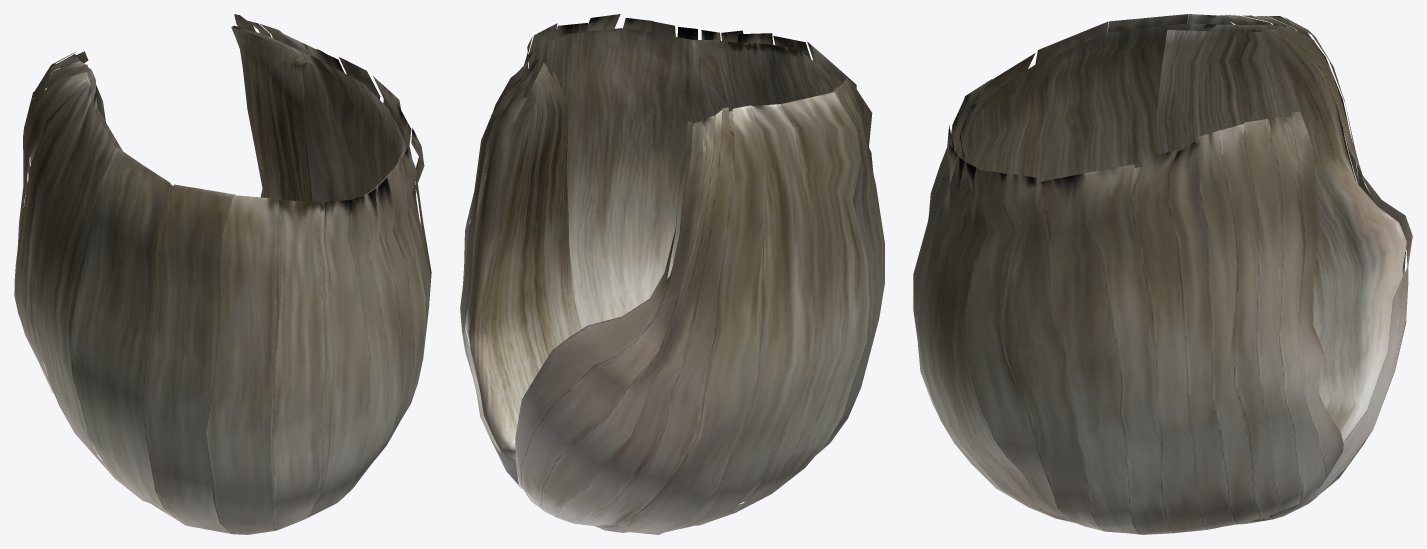
The picture shows the model from 3 angles, left to right: view 1: azimuth 30°, elevation 25°; view 2: azimuth 150°, elevation 25°; view 3: azimuth 270°, elevation 25°; orthographic projection. The views are drawn at different scales.
Parts seen in each view (by area): view 1: femalehair-bob02_0; view 2: femalehair-bob02_0; view 3: femalehair-bob02_0.
Boxes of the visible parts, box(x1,y1,x2,y2) form: femalehair-bob02_0: box(14, 14, 431, 534); femalehair-bob02_0: box(460, 14, 884, 534); femalehair-bob02_0: box(913, 14, 1412, 534).
Bounding box in the file's own units: 1.2 × 1.48 × 1.47.
